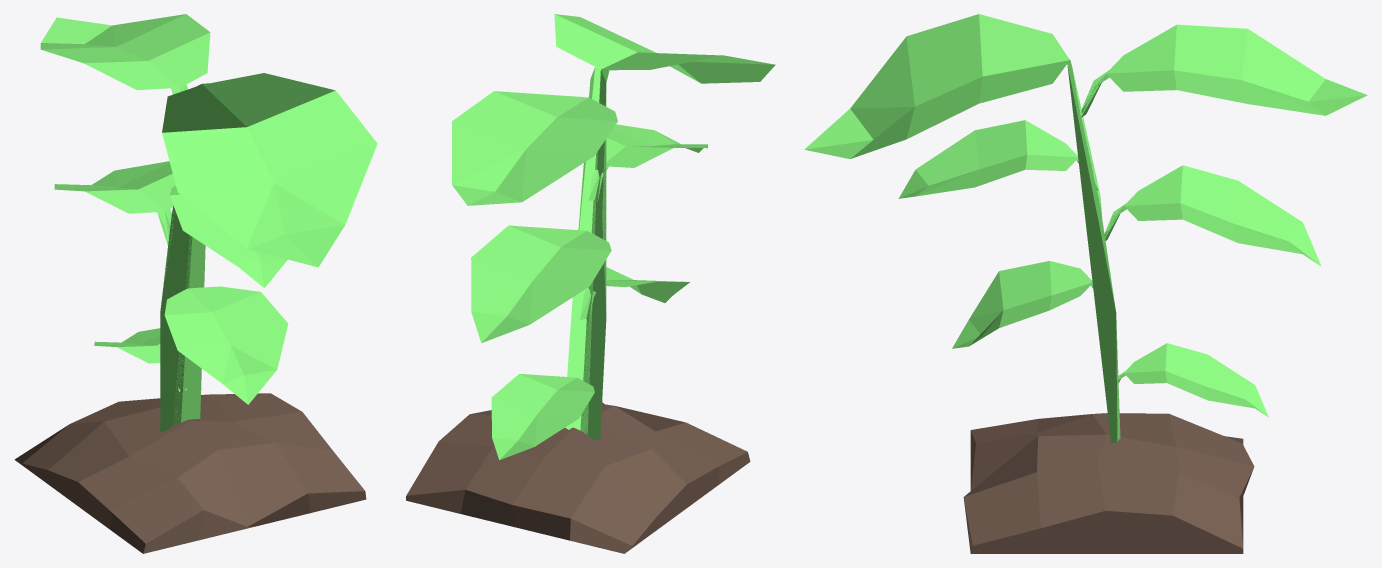
File: 3dplant3.glb
The picture shows the model from 3 angles, left to right: view 1: azimuth 30°, elevation 25°; view 2: azimuth 150°, elevation 25°; view 3: azimuth 270°, elevation 25°; orthographic projection. The views are drawn at different scales.
Parts seen in each view (by area): view 1: Leaf1, Cube, Leaf1.005, Leaf1.001, Leaf1.002, Leaf1.003, Leaf1.004; view 2: Cube, Leaf1.001, Leaf1, Leaf1.002, Leaf1.004, Leaf1.003, Leaf1.005; view 3: Cube, Leaf1, Leaf1.001, Leaf1.002, Leaf1.003, Leaf1.005, Leaf1.004.
Boxes of the visible parts, <box> form: Leaf1: <box>160,73,377,432</box>; Cube: <box>14,393,366,553</box>; Leaf1.005: <box>164,286,288,404</box>; Leaf1.001: <box>40,14,210,94</box>; Leaf1.002: <box>54,161,175,245</box>; Leaf1.003: <box>169,186,287,288</box>; Leaf1.004: <box>94,328,186,391</box>; Cube: <box>406,402,750,553</box>; Leaf1.001: <box>452,91,617,205</box>; Leaf1: <box>554,14,775,440</box>; Leaf1.002: <box>471,225,611,342</box>; Leaf1.004: <box>491,374,594,459</box>; Leaf1.003: <box>588,124,707,202</box>; Leaf1.005: <box>580,267,689,321</box>; Cube: <box>963,413,1254,553</box>; Leaf1: <box>804,14,1120,442</box>; Leaf1.001: <box>1081,24,1367,117</box>; Leaf1.002: <box>1104,165,1321,266</box>; Leaf1.003: <box>898,120,1098,198</box>; Leaf1.005: <box>952,261,1093,348</box>; Leaf1.004: <box>1118,343,1268,417</box>.
Size of the model in its own units: 1.95 by 3.47 by 4.03.
